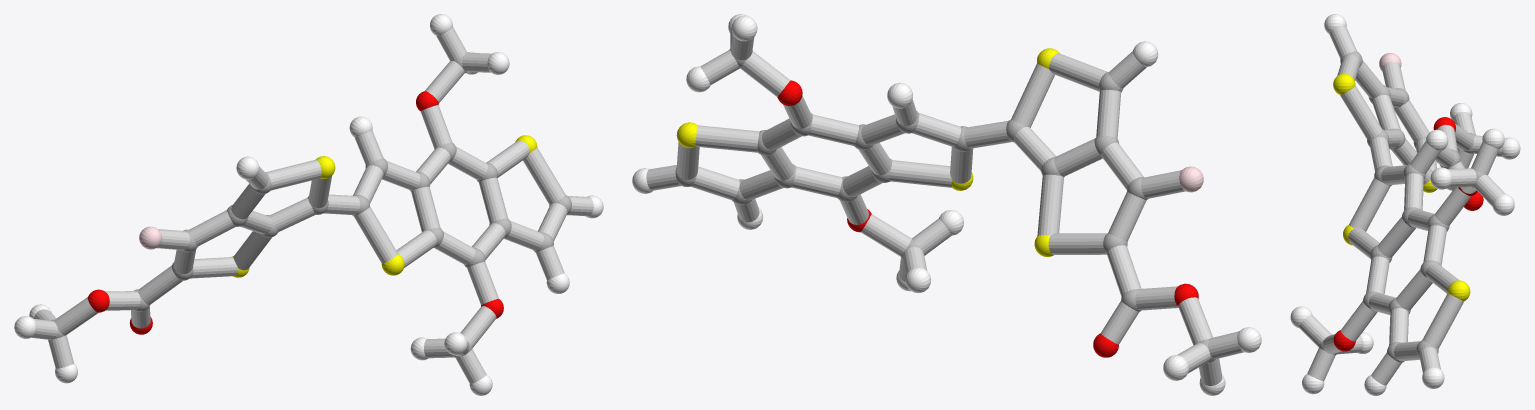
Rendered from color.glb.
3 renders of one model, left to right at view 1: azimuth 30°, elevation 25°; view 2: azimuth 150°, elevation 25°; view 3: azimuth 270°, elevation 25°, orthographic. The views are drawn at different scales.
Visible parts, largest first — view 1: grp15205, grp8689, grp1, grp13395, grp7241; view 2: grp15205, grp8689, grp1, grp13395, grp7241; view 3: grp15205, grp8689, grp1, grp7241, grp13395, grp14843.
Boxes of the visible parts, x1,y1,x2,y2 form: grp15205: (31,26,593,383); grp8689: (14,14,603,395); grp1: (51,52,571,357); grp13395: (87,91,503,334); grp7241: (232,135,537,277); grp15205: (646,28,1243,385); grp8689: (632,14,1261,395); grp1: (675,47,1215,362); grp13395: (777,80,1198,357); grp7241: (676,48,1059,256); grp15205: (1299,26,1505,385); grp8689: (1290,14,1520,395); grp1: (1319,51,1484,362); grp7241: (1333,73,1470,301); grp13395: (1333,117,1483,351); grp14843: (1379,53,1401,71).
Bounding box in the file's own units: 17.12 × 8.54 × 6.17.
